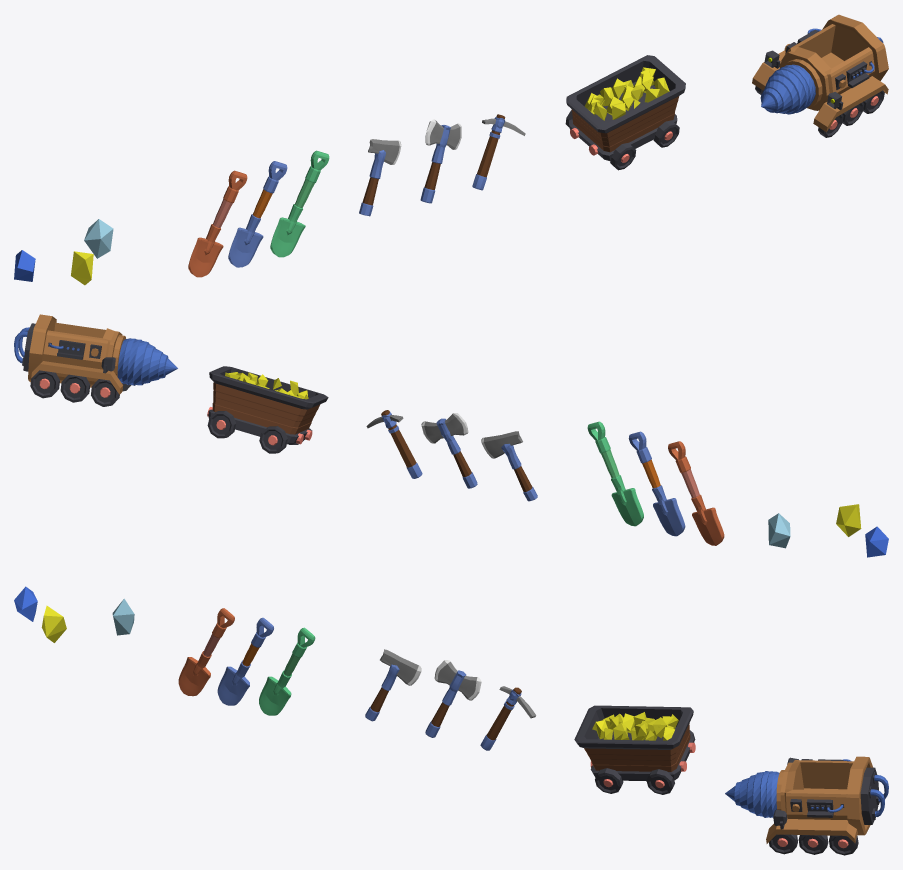
File: GoDeeper_v5.fbx
3 views of the same model, one above another, from view 1: azimuth 30°, elevation 25°; view 2: azimuth 150°, elevation 25°; view 3: azimuth 330°, elevation 25° (orthographic). The views are drawn at different scales.
Parts seen in each view (by area): view 1: Drill, MineCart.001, Golds, Shovel 1, Shovel2, Shovel3, Axe.002, Axe.001, Axe.003, Gem3, Gem2, Gem1; view 2: Drill, MineCart.001, Shovel3, Shovel2, Shovel 1, Axe.002, Axe.001, Axe.003, Golds, Gem3, Gem2, Wheel3 (+2 smaller); view 3: Drill, MineCart.001, Golds, Shovel2, Shovel3, Shovel 1, Axe.002, Axe.001, Axe.003, Gem2, Gem3, Wheel1 (+2 smaller).
Boxes of the visible parts, x1,y1,x2,y2 form: Drill: (752, 14, 888, 137); MineCart.001: (566, 55, 685, 161); Golds: (584, 67, 669, 120); Shovel 1: (188, 170, 247, 277); Shovel2: (228, 161, 287, 267); Shovel3: (270, 150, 329, 257); Axe.002: (420, 119, 461, 203); Axe.001: (359, 139, 401, 216); Axe.003: (472, 114, 525, 190); Gem3: (84, 219, 113, 258); Gem2: (71, 251, 93, 285); Gem1: (14, 250, 35, 281); Drill: (14, 314, 177, 406); MineCart.001: (207, 366, 328, 444); Shovel3: (587, 421, 643, 526); Shovel2: (628, 431, 685, 536); Shovel 1: (668, 441, 724, 545); Axe.002: (421, 413, 477, 488); Axe.001: (481, 431, 537, 501); Axe.003: (366, 410, 422, 478); Golds: (225, 372, 308, 399); Gem3: (768, 513, 790, 548); Gem2: (836, 504, 861, 536); Wheel3: (259, 426, 287, 453); Drill: (725, 756, 888, 855); MineCart.001: (574, 705, 695, 781); Golds: (592, 712, 678, 740); Shovel2: (217, 617, 273, 705); Shovel3: (259, 627, 315, 715); Shovel 1: (178, 608, 234, 696); Axe.002: (425, 660, 481, 737); Axe.001: (365, 649, 421, 721); Axe.003: (480, 686, 536, 750); Gem2: (41, 605, 66, 642); Gem3: (112, 598, 134, 635); Wheel1: (646, 769, 674, 794).
Bounding box in the file's own units: 6278 × 683 × 793.
